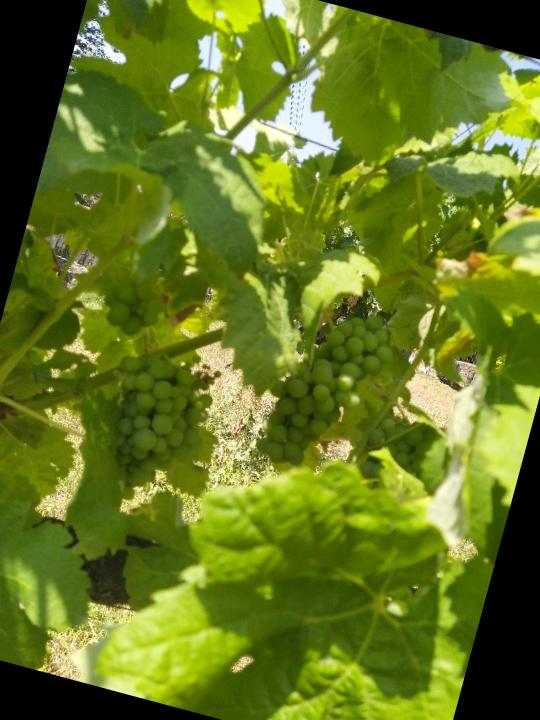grape: (250, 291, 406, 488), (87, 346, 221, 501)
